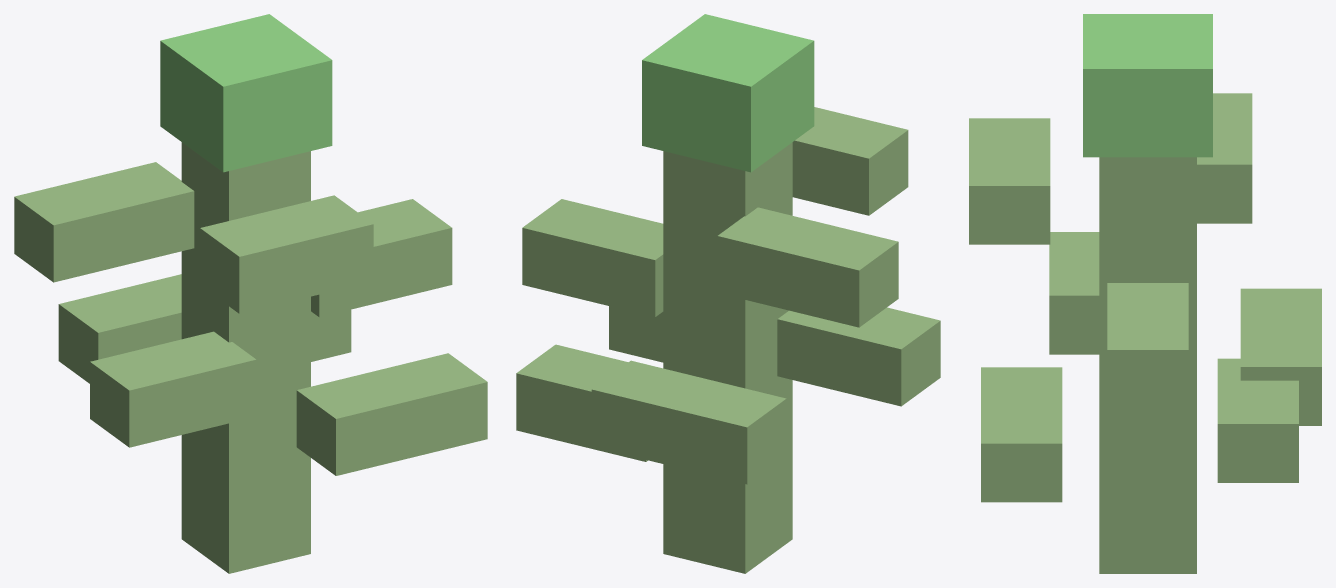
Rendered from Prop_Herb_AMF_Furfern_V5.glb.
3 renders of one model, left to right at view 1: azimuth 30°, elevation 25°; view 2: azimuth 150°, elevation 25°; view 3: azimuth 270°, elevation 25°, orthographic. The views are drawn at different scales.
Parts seen in each view (by area): view 1: Prop_Herb_AMF_Furfern_V5; view 2: Prop_Herb_AMF_Furfern_V5; view 3: Prop_Herb_AMF_Furfern_V5.
Boxes of the visible parts, bbox=[...] form: Prop_Herb_AMF_Furfern_V5: bbox=[14, 14, 487, 573]; Prop_Herb_AMF_Furfern_V5: bbox=[516, 14, 940, 573]; Prop_Herb_AMF_Furfern_V5: bbox=[969, 14, 1321, 573].
Size of the model in its own units: 0.2695 by 0.3474 by 0.217.
